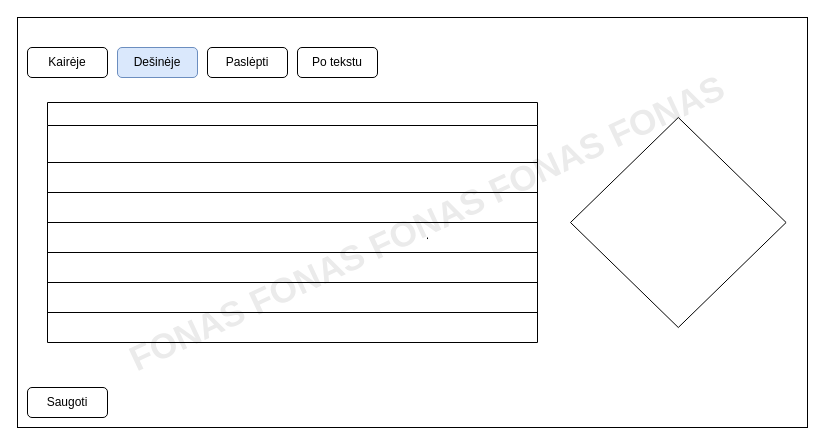
This 825x445 diagram has some shape labels left out. The centre of each missing label's shape, as x and y in pixels:
DEKORACIJA: pixel 678 222
PROGINIS PALINKĖJIMAS: pixel 292 222
